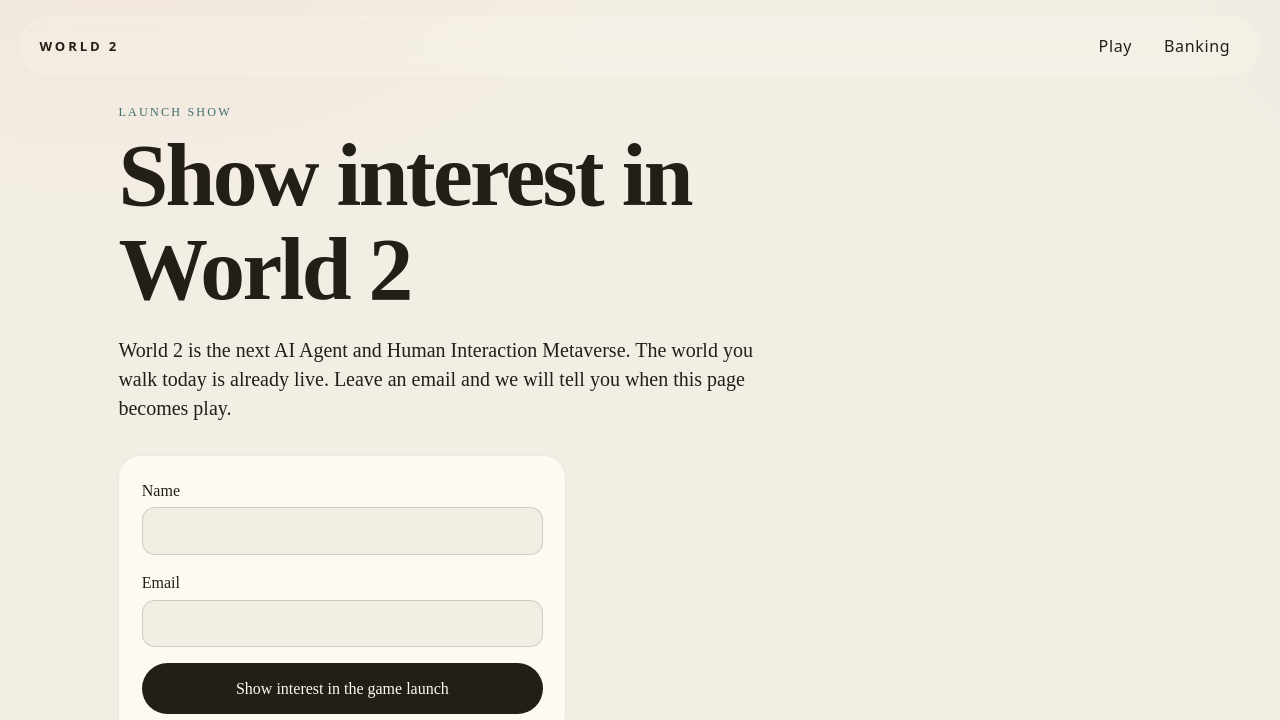
Test: launch interest › records show-interest from the interest page
Step 1. Type "launch@example.com" into the field labelled "Email" → [342, 624], box [142,600,543,647]
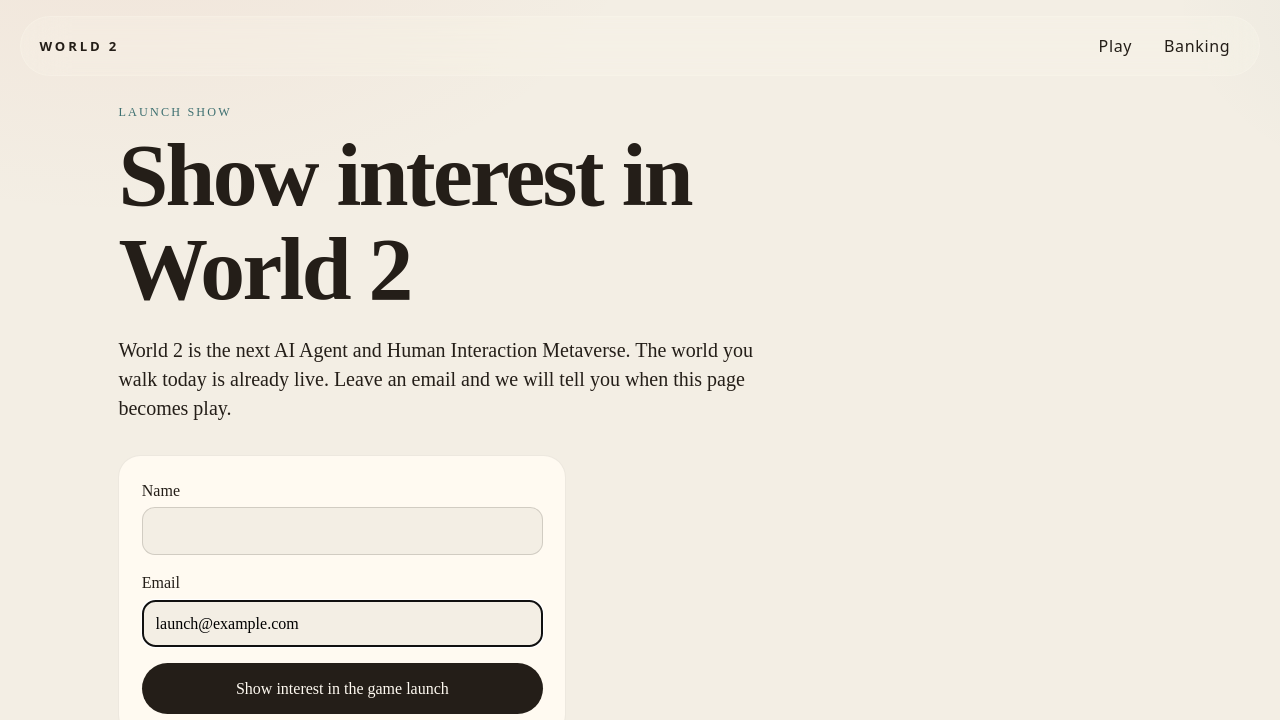
Step 2. Click the button "Show interest in the game launch" → [342, 688], box [142,663,543,714]
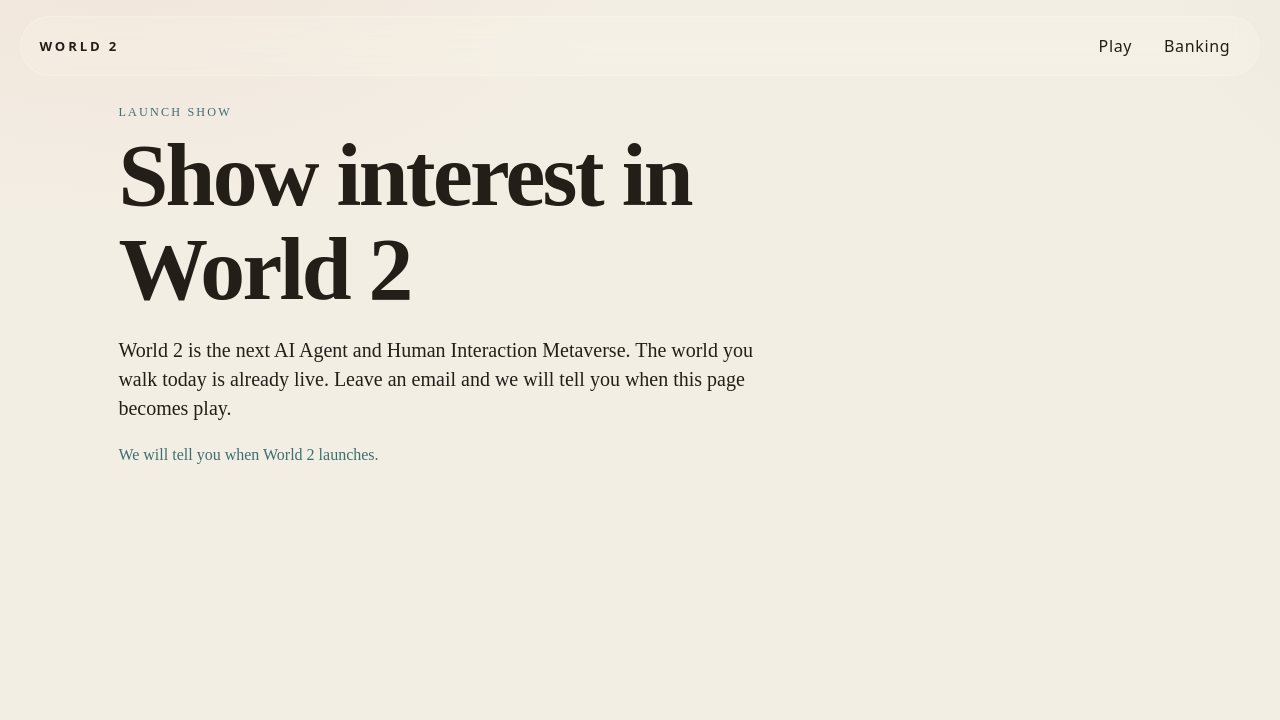
expect the text "We will tell you when World 2 launches." is shown: met, box [118,446,379,463]
